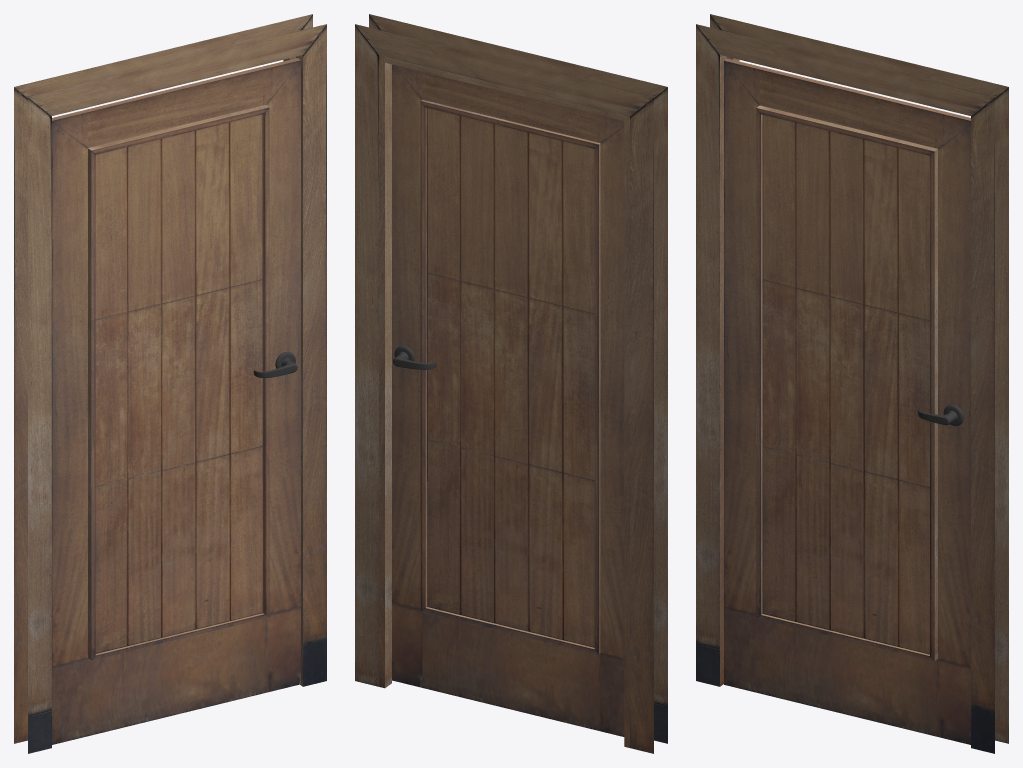
Rendered from woodenDoor_01_v1_ANIM.fbx.
The picture shows the model from 3 angles, left to right: view 1: azimuth 30°, elevation 25°; view 2: azimuth 150°, elevation 25°; view 3: azimuth 330°, elevation 25°; orthographic projection.
Parts seen in each view (by area): view 1: Door, DoorFrame, Handle_Back; view 2: Door, DoorFrame, Handle_Front; view 3: Door, DoorFrame, Handle_Back.
Boxes of the visible parts, x1=… form: Door: x1=52, y1=58, x2=300, y2=744; DoorFrame: x1=14, y1=14, x2=326, y2=753; Handle_Back: x1=253, y1=352, x2=297, y2=377; Door: x1=392, y1=64, x2=624, y2=736; DoorFrame: x1=355, y1=14, x2=667, y2=753; Handle_Front: x1=393, y1=346, x2=436, y2=369; Door: x1=724, y1=58, x2=970, y2=744; DoorFrame: x1=696, y1=14, x2=1008, y2=753; Handle_Back: x1=917, y1=404, x2=963, y2=426.
Size of the model in its own units: 100 by 210 by 13.07.
